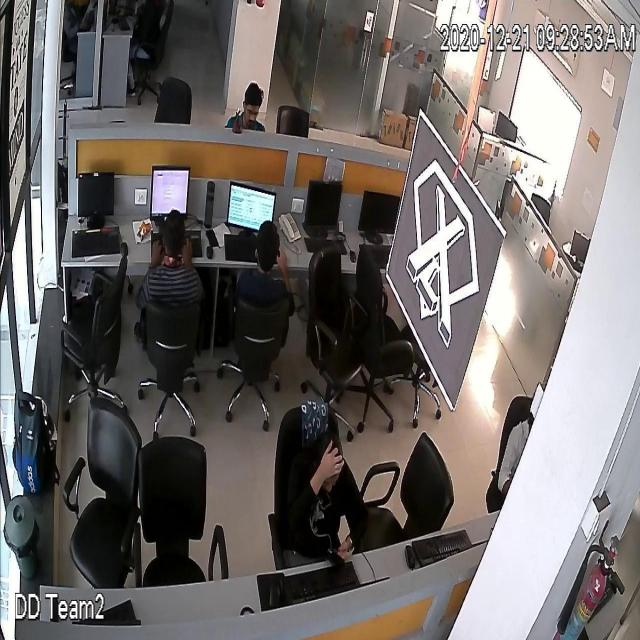chair: (63, 395, 143, 589), (301, 242, 367, 444), (267, 393, 341, 568), (139, 444, 229, 586), (352, 428, 454, 550), (354, 243, 412, 438), (62, 254, 130, 414), (217, 295, 289, 432), (139, 301, 201, 439), (487, 377, 531, 512), (401, 302, 443, 433), (138, 0, 175, 101), (153, 74, 193, 124), (275, 103, 311, 137), (531, 185, 553, 230), (62, 29, 77, 95)
keyboard: (280, 561, 358, 603), (414, 527, 474, 569), (72, 596, 144, 626), (152, 227, 204, 260), (69, 229, 121, 255), (224, 236, 258, 263), (364, 242, 392, 268), (307, 236, 348, 252), (78, 9, 95, 34), (117, 14, 129, 34)
monitor: (227, 180, 276, 233), (149, 164, 191, 216), (74, 171, 116, 215), (307, 180, 343, 230), (360, 189, 400, 234), (496, 111, 521, 147), (573, 227, 589, 264)
person: (286, 428, 366, 566), (136, 206, 206, 310), (235, 218, 297, 317), (128, 0, 162, 94), (500, 404, 534, 498), (228, 80, 268, 132), (65, 0, 91, 36)
phone: (325, 542, 347, 574)
